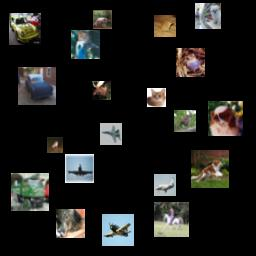airplane: (102, 214, 134, 246), (65, 154, 94, 183), (100, 123, 122, 145), (154, 174, 176, 196)
automobile: (18, 67, 56, 105), (9, 13, 41, 45)
bird: (71, 30, 100, 59), (174, 110, 196, 132)
cat: (56, 209, 85, 238), (93, 10, 112, 29), (147, 88, 166, 107)
deer: (92, 81, 111, 100)
dog: (191, 150, 229, 188), (208, 101, 243, 136), (195, 3, 221, 29)
frog: (176, 48, 205, 77), (154, 15, 176, 37), (47, 137, 63, 153)
truck: (11, 173, 49, 211)
